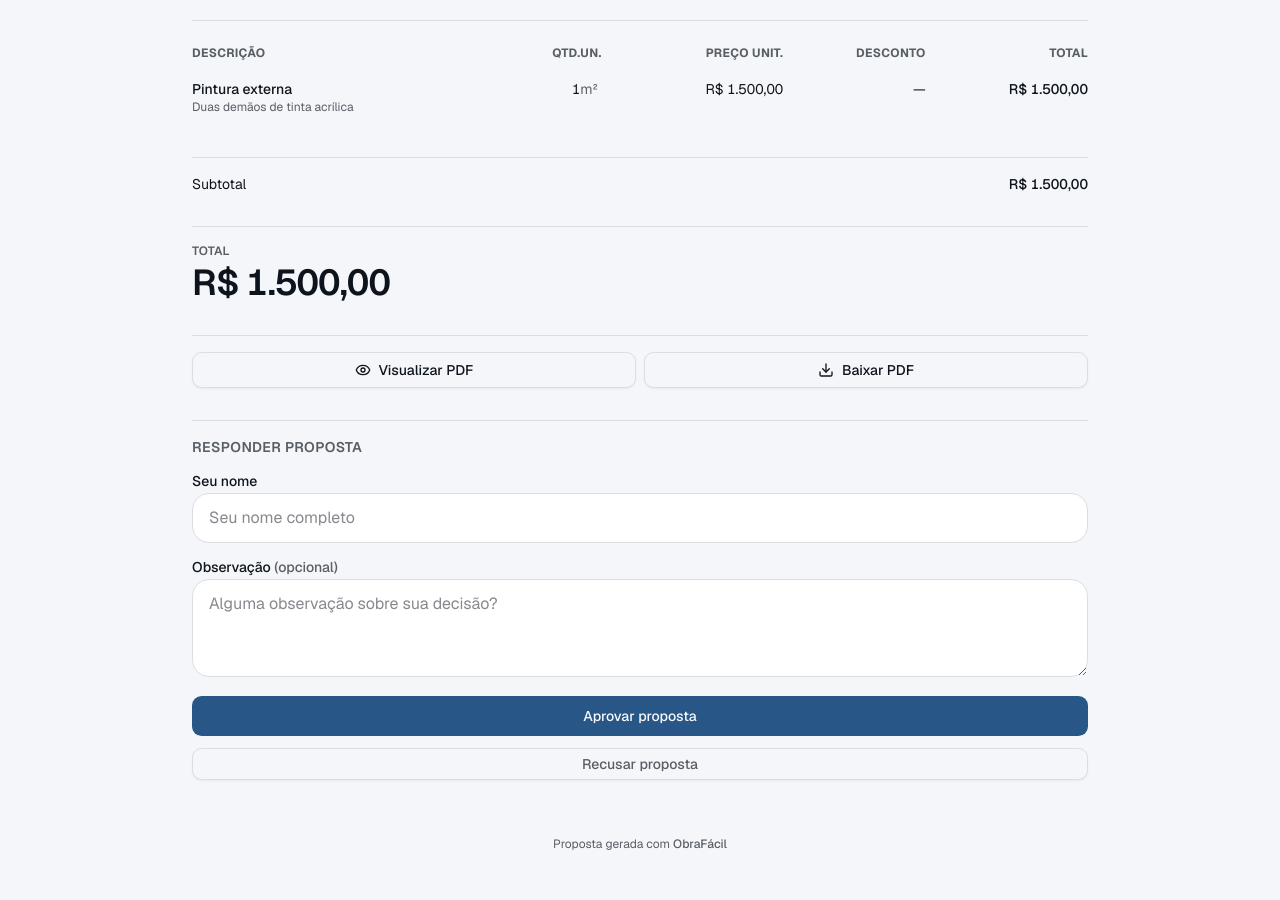
ProposalView › reject happy path shows a confirm step then sends { name, note } and never a 'reason' field
(page scrolled)
Type "Maria Cliente" into the field labelled "Seu nome" at coordinates (640, 518), box [192,493,1088,543]
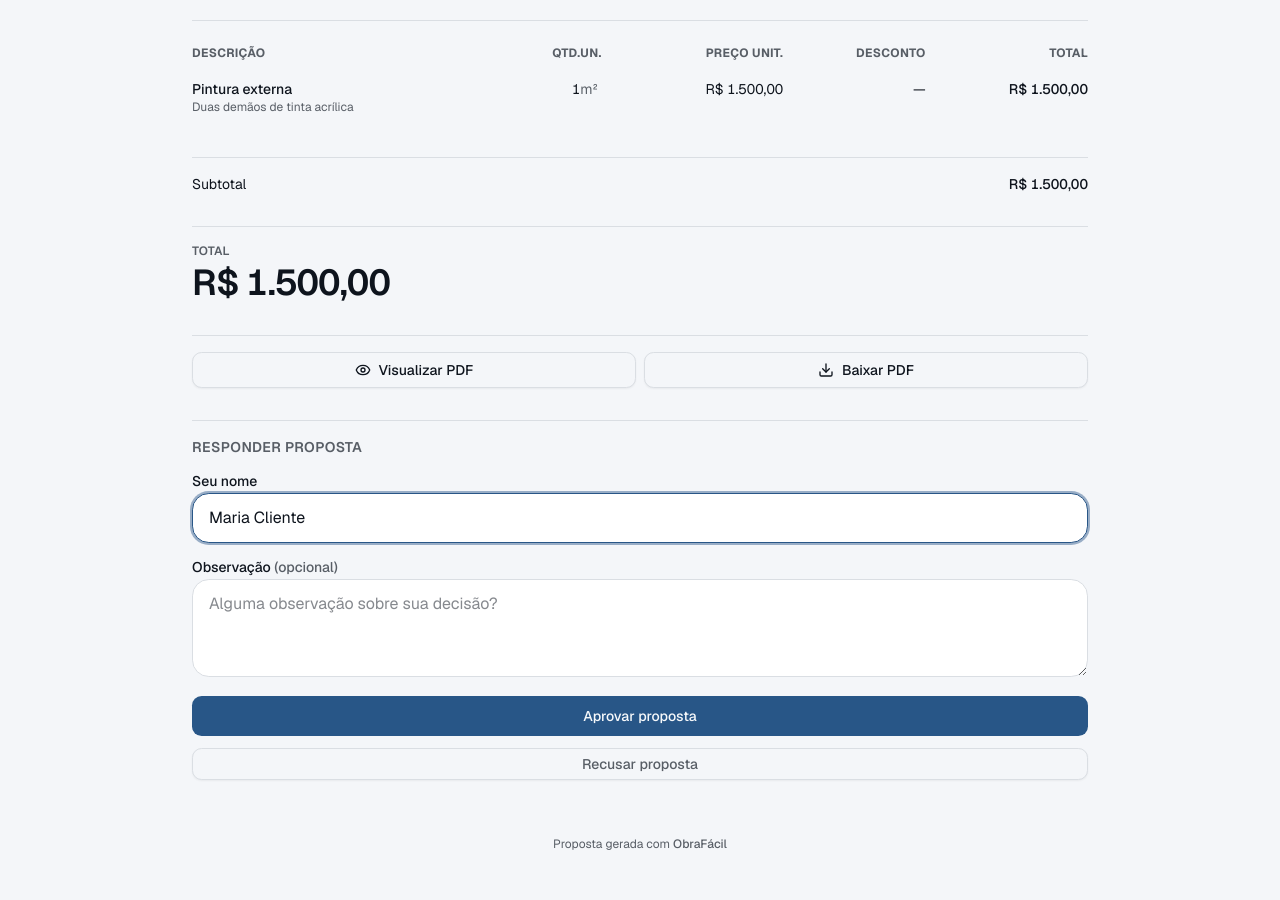
Click the button "Recusar proposta" at coordinates (640, 764), box [192,748,1088,780]
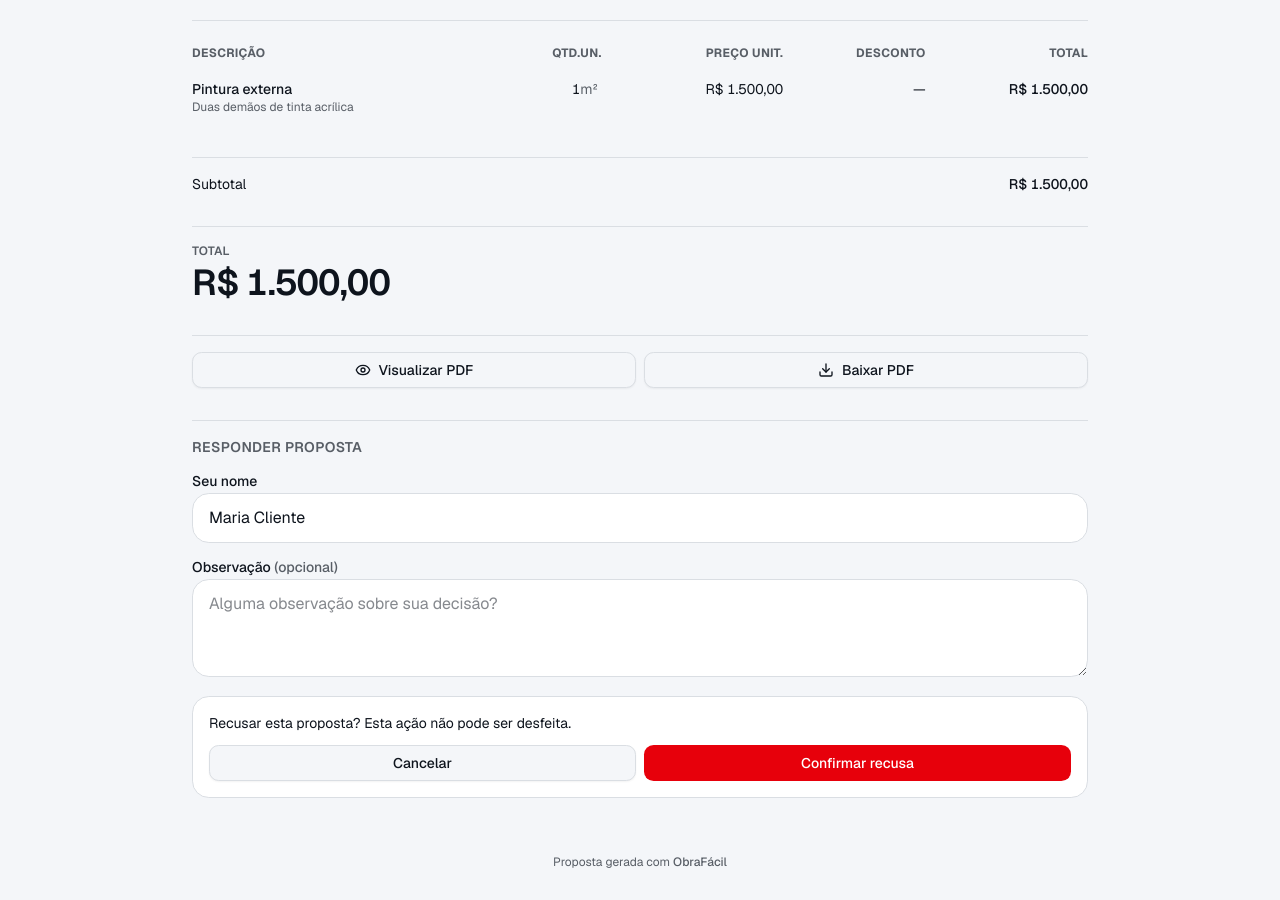
Expected: the text "Recusar esta proposta? Esta ação não pode ser desfeita." is shown, [209,714,571,732]
Click the button "Confirmar recusa" at coordinates (858, 763), box [644,745,1071,781]
(page scrolled)
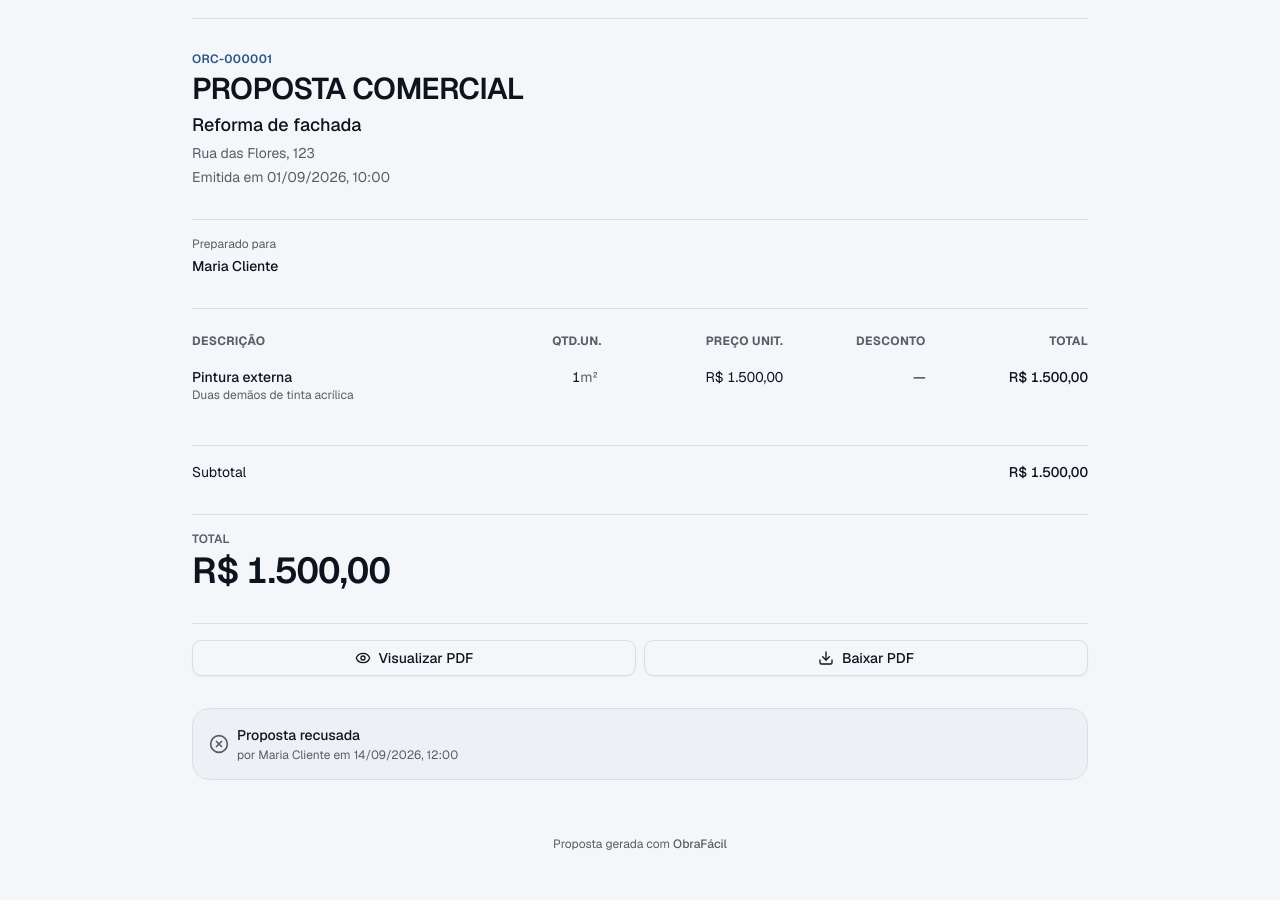
Expected: the text "Proposta recusada" is shown, [237,726,360,744]
